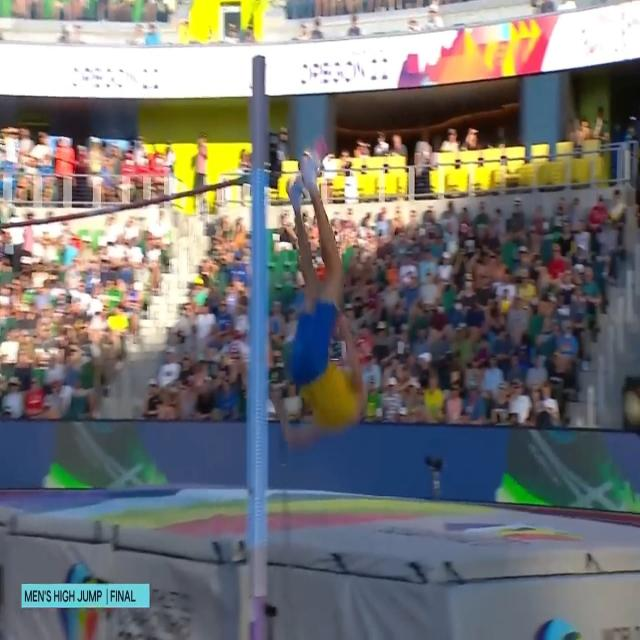land: (284, 138, 370, 428)
